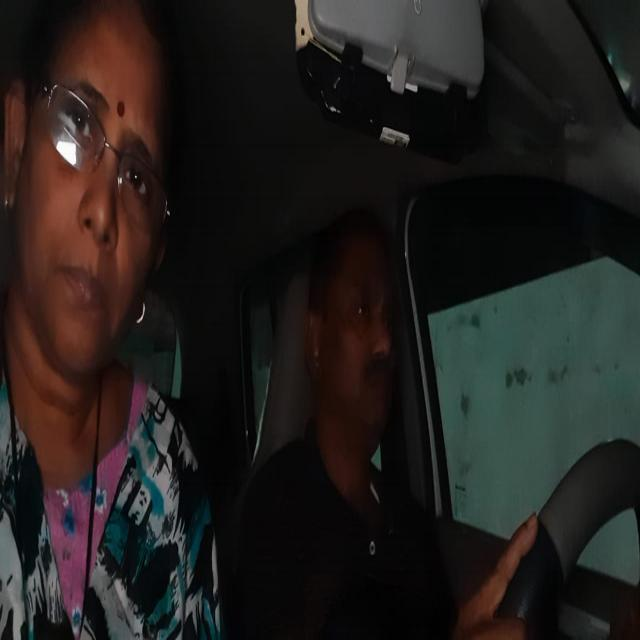person: (2, 7, 178, 391), (307, 205, 405, 450)
